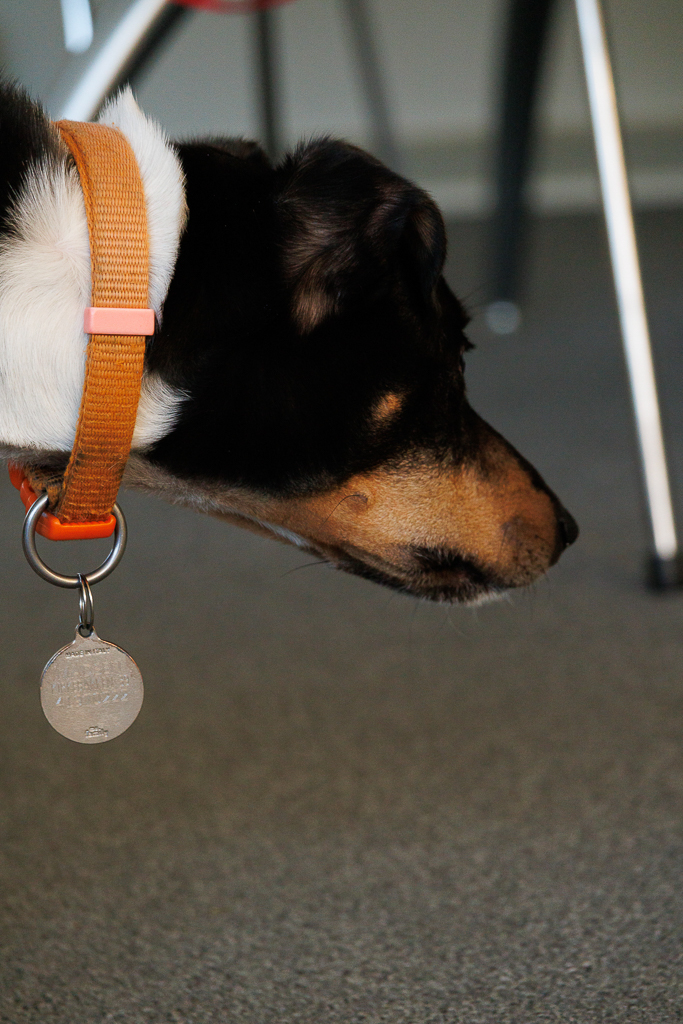Dog: (0, 58, 593, 761)
